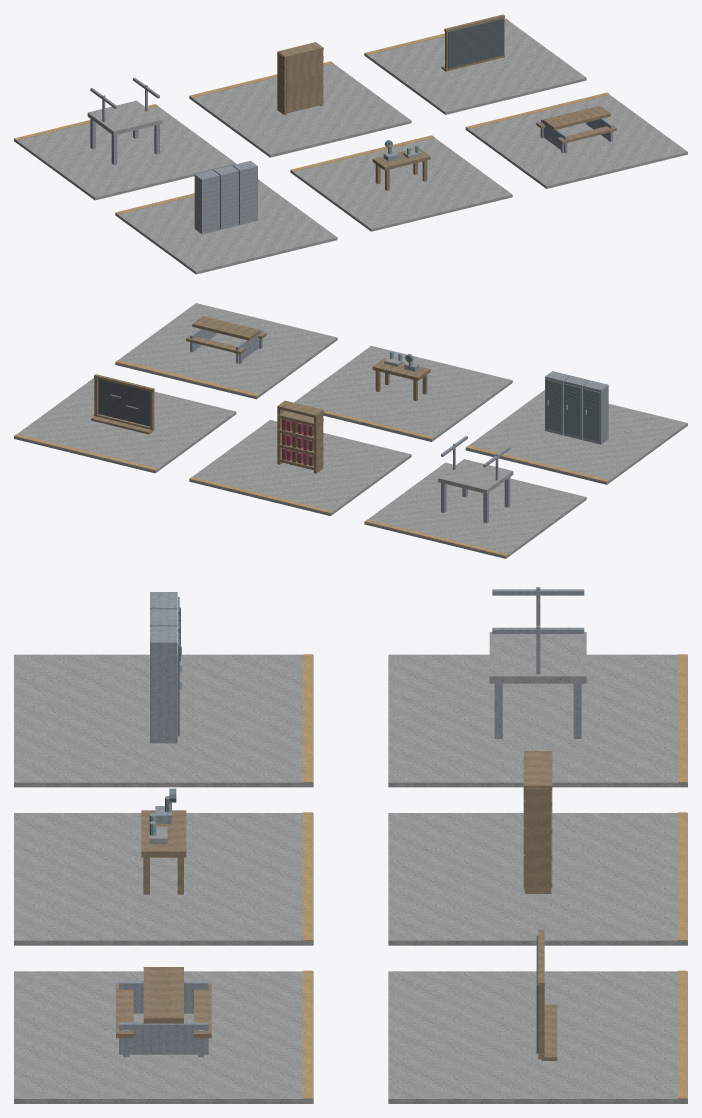
Rendered from level_blockout_kit_academy_p04.glb.
The picture shows the model from 3 angles, top to bottom: view 1: azimuth 30°, elevation 25°; view 2: azimuth 150°, elevation 25°; view 3: azimuth 270°, elevation 25°; orthographic projection. The views are drawn at different scales.
Parts seen in each view (by area): view 1: level_blockout_kit_academy_p04; view 2: level_blockout_kit_academy_p04; view 3: level_blockout_kit_academy_p04.
Boxes of the visible parts, x1,y1,x2,y2 form: level_blockout_kit_academy_p04: (14,14,687,274); level_blockout_kit_academy_p04: (14,303,687,558); level_blockout_kit_academy_p04: (14,587,687,1103).
Bounding box in the file's own units: 19.65 × 2.4 × 12.6.
Materials: 11 (11 with a texture image).
